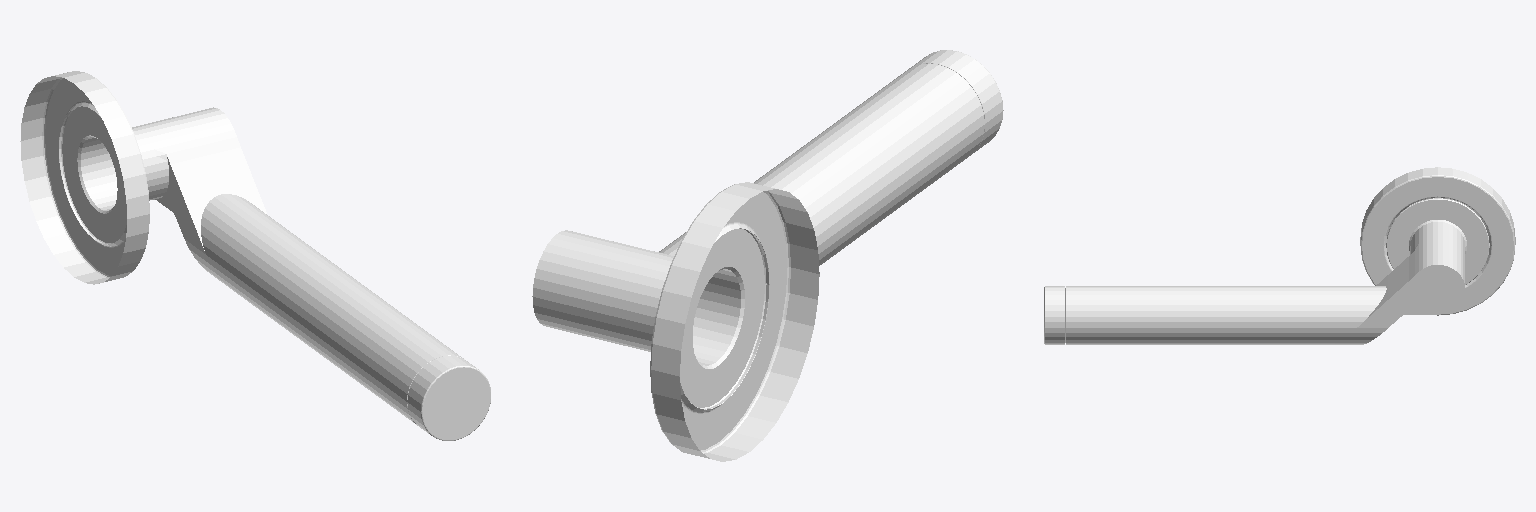
The robot description file, URDF, robot "door_robot":
?<?xml version="1.0"?>

<robot name="door_robot" >

    <link name="world" />


    <link name="door_handle">
        <inertial>
            <origin xyz="0 0 0" />
            <mass value="2.6409912742551773" />
            <inertia ixx="0.0" ixy="0.0" ixz="0.0" iyy="0.0" iyz="0.0" izz="0.0" />
        </inertial>
        <visual>
            <origin xyz="0 0 0" />
            <geometry>
                <mesh filename="obj/handle_edited.obj" rpy="0 0 0" />
            </geometry>
            <material name="wood">
            <color rgba ="1 1 1 1"/>
            </material>
        </visual>
        <!--<collision>
            <origin xyz="-0.148404 0.486267 4.17233e-07" />
            <geometry>
                <mesh filename="handle_edited.obj" rpy="0 0 0" />
            </geometry>
        </collision>-->
    </link>

    <joint name="door_hinge" type="fixed">
        <origin xyz="0 0 1" rpy="0 0 0" />
        <parent link="world" />
        <child link="door_handle" />
        <axis xyz="0 0 0" />
        <dynamics friction="0.4960139088111456" />
        <limit lower="0.0" upper="1.57"/>
    </joint>
    
        
    

    
        

</robot>

--- What the picture shows (computed from the rendered views, not written in the file) ---
3 views of the same robot in one strip: view 1: azimuth 30°, elevation 25°; view 2: azimuth 150°, elevation 25°; view 3: azimuth 270°, elevation 25° (orthographic).
Model door_robot with 2 links and 1 joints (1 fixed), rooted at world, posed all joints at 0.
Visible links, largest first — view 1: door_handle; view 2: door_handle; view 3: door_handle.
Boxes of the visible links, x1=… form: door_handle: x1=20, y1=71, x2=490, y2=440; door_handle: x1=532, y1=50, x2=1003, y2=461; door_handle: x1=1044, y1=167, x2=1515, y2=344.
Size in the robot's own frame: 0.0364 by 0.1392 by 0.0458 metres.
1 mesh visuals loaded from 1 distinct referenced files (1 OBJ).